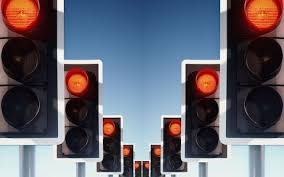red: (60, 61, 100, 159), (64, 66, 91, 155)
